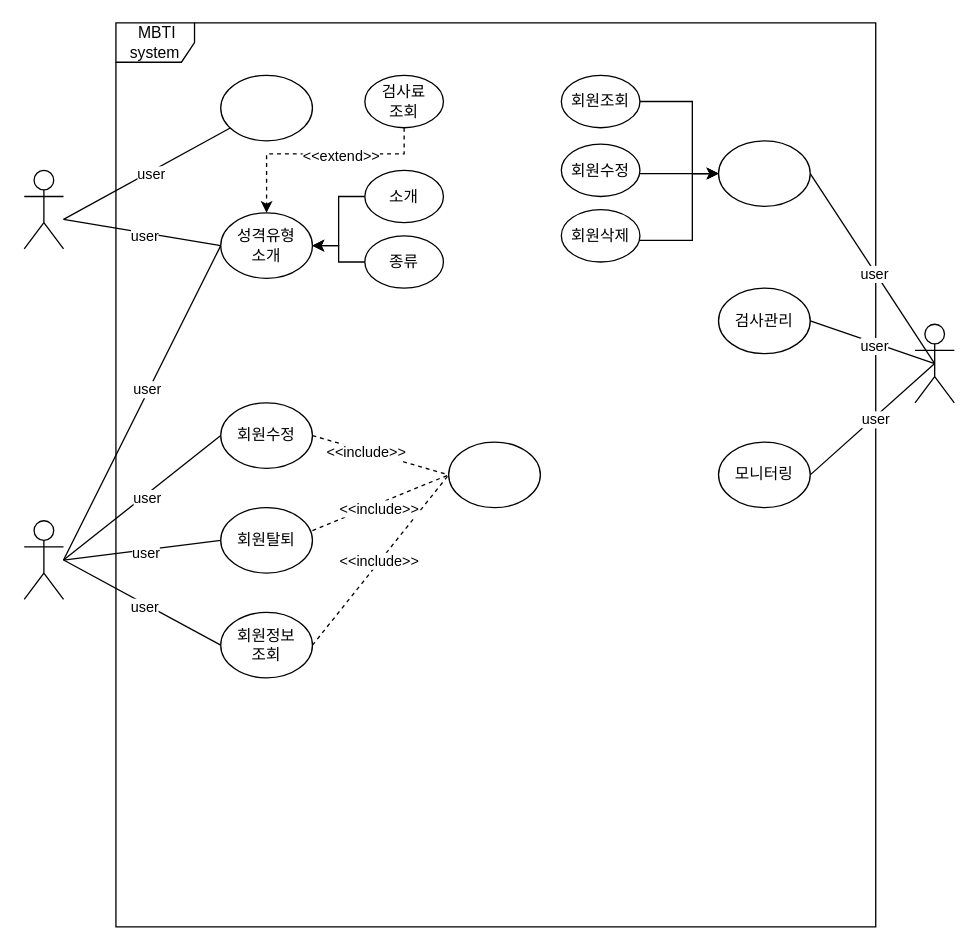
This 979x950 diagram has some shape labels left out. The shapes that lost their labels are listed below. From the top down, each one's centre as x and y in pixels, then its label:
At point 265,107: "회원가입".
At point 763,173: "회원관리".
At point 43,209: "비회원".
At point 934,363: "관리자".
At point 493,474: "로그인".
At point 43,559: "회원".
